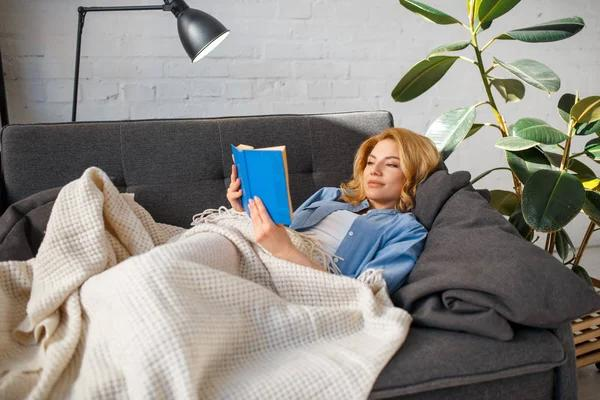blanket: (0, 164, 416, 400)
long sleeve shirt: (280, 185, 435, 292)
